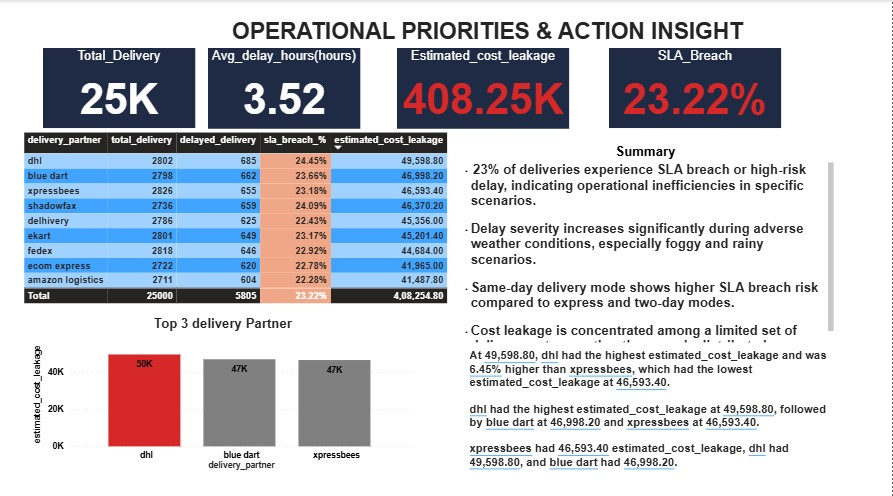

This screenshot's page, from the dashboard's own definition file:
{"tool":"powerbi","page":{"name":"Action Insight","canvas":[1280,720],"ordinal":2},"visuals":[{"type":"tableEx","fields":{"Values":["Delivery_Logistics.delivery_partner","Measure.total_delivery","Measure.delayed_delivery","Measure.sla_breach_%","Measure.delay_cost"]},"box":[49.4,182.1,612.7,264],"z":0},{"type":"clusteredColumnChart","title":"Top 3 delivery Partner","fields":{"Category":["Delivery_Logistics.delivery_partner"],"Y":["Measure.estimated_cost_leakage"]},"box":[63.5,446.1,544.9,223.1],"z":1000},{"type":"textbox","title":"Summary","box":[662.1,203.3,540.7,285.2],"z":2000},{"type":"textbox","box":[314.8,21.2,789.2,67.8],"z":3000},{"type":"card","title":"Total_Delivery","fields":{"Values":["Measure.total_delivery"]},"box":[81.9,67.8,214.6,112.9],"z":4000},{"type":"card","title":"Avg_delay_hours(hours)","fields":{"Values":["Measure.avg_delay_hours"]},"box":[314.8,67.8,214.6,114.4],"z":5000},{"type":"card","title":"Estimated_cost_leakage","fields":{"Values":["Measure.delay_cost"]},"box":[581.6,67.8,242.8,114.4],"z":6000},{"type":"card","title":"SLA_Breach","fields":{"Values":["Measure.sla_breach_%"]},"box":[880.9,67.8,242.8,112.9],"z":7000},{"type":"textbox","box":[679.1,488.5,523.8,218.8],"z":8000}]}

Visuals, with their boxes in screenshot pixels (x1, y1, x2, y2), scaled from the page's 1280x720 canvas onto the 893x496 screenshot:
tableEx - Delivery_Logistics.delivery_partner x Measure.total_delivery: x1=34, y1=125, x2=462, y2=307
"Top 3 delivery Partner" clusteredColumnChart: x1=44, y1=307, x2=424, y2=461
"Summary" textbox: x1=462, y1=140, x2=839, y2=337
textbox: x1=220, y1=15, x2=770, y2=61
"Total_Delivery" card: x1=57, y1=47, x2=207, y2=124
"Avg_delay_hours(hours)" card: x1=220, y1=47, x2=369, y2=126
"Estimated_cost_leakage" card: x1=406, y1=47, x2=575, y2=126
"SLA_Breach" card: x1=615, y1=47, x2=784, y2=124
textbox: x1=474, y1=337, x2=839, y2=487
